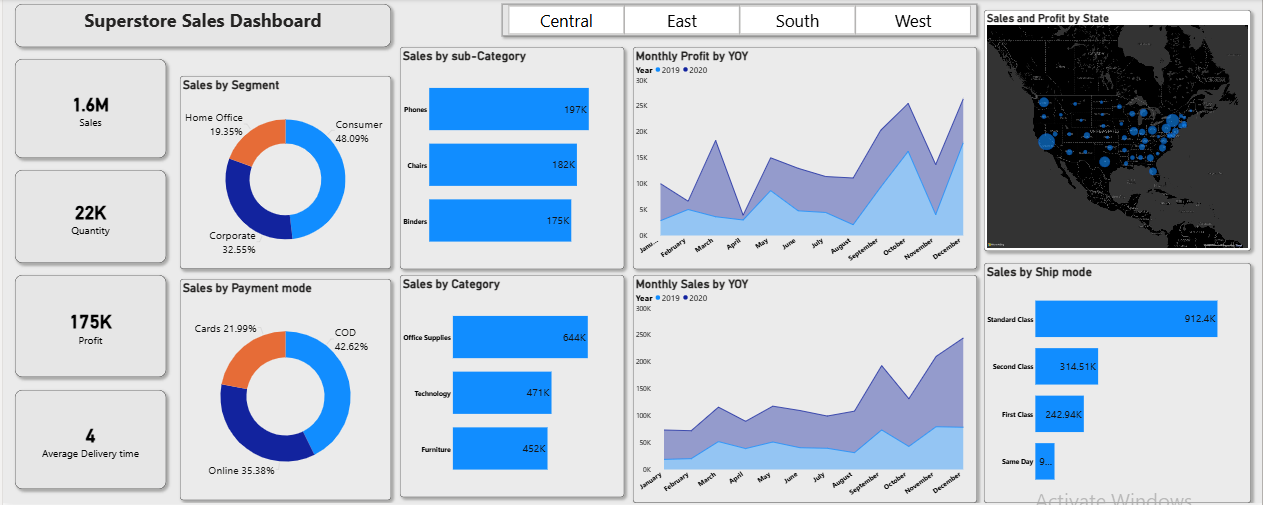

This screenshot's page, from the dashboard's own definition file:
{"tool":"powerbi","page":{"name":"Page 1","canvas":[5000,2000],"ordinal":0},"visuals":[{"type":"barChart","title":"Sales by Category","fields":{"Category":["SuperStore_Sales_Dataset.Category"],"Y":["Sum(SuperStore_Sales_Dataset.Sales)"]},"box":[1576.6,1096.1,889.6,881.7],"z":0},{"type":"barChart","title":"Sales by  sub-Category","fields":{"Y":["Sum(SuperStore_Sales_Dataset.Sales)"],"Category":["SuperStore_Sales_Dataset.Sub-Category"]},"box":[1576.6,190.6,889.6,881.7],"z":1000},{"type":"barChart","title":"Sales by Ship mode","fields":{"Y":["Sum(SuperStore_Sales_Dataset.Sales)"],"Category":["SuperStore_Sales_Dataset.Ship Mode"]},"box":[3895.9,1048.5,1060.4,953.1],"z":2000},{"type":"stackedAreaChart","title":"Monthly Sales by YOY","fields":{"Y":["Sum(SuperStore_Sales_Dataset.Sales)"],"Category":["SuperStore_Sales_Dataset.Order Date.Variation.Date Hierarchy.Month","SuperStore_Sales_Dataset.Order Date.Variation.Date Hierarchy.Day"],"Series":["SuperStore_Sales_Dataset.Order Date.Variation.Date Hierarchy.Year"]},"box":[2502,1096.1,1366.2,905.5],"z":3000},{"type":"stackedAreaChart","title":"Monthly Profit by YOY","fields":{"Series":["SuperStore_Sales_Dataset.Order Date.Variation.Date Hierarchy.Year"],"Category":["SuperStore_Sales_Dataset.Order Date.Variation.Date Hierarchy.Month","SuperStore_Sales_Dataset.Order Date.Variation.Date Hierarchy.Day"],"Y":["Sum(SuperStore_Sales_Dataset.Profit)"]},"box":[2502,190.6,1366.2,881.7],"z":4000},{"type":"map","title":"Sales and Profit by State","fields":{"Category":["SuperStore_Sales_Dataset.State"],"Size":["Sum(SuperStore_Sales_Dataset.Sales)"]},"box":[3895.9,43.7,1060.4,957.1],"z":5000},{"type":"donutChart","title":"Sales by Segment","fields":{"Category":["SuperStore_Sales_Dataset.Segment"],"Y":["Sum(SuperStore_Sales_Dataset.Sales)"]},"box":[702.9,305.8,838,766.5],"z":6000},{"type":"donutChart","title":"Sales by Payment mode","fields":{"Y":["Sum(SuperStore_Sales_Dataset.Sales)"],"Category":["SuperStore_Sales_Dataset.Payment Mode"]},"box":[702.9,1112,838,877.7],"z":7000},{"type":"slicer","fields":{"Values":["SuperStore_Sales_Dataset.Region"]},"box":[1981.7,19.9,1886.4,127.1],"z":9000},{"type":"textbox","box":[47.7,19.9,1493.2,170.8],"z":10000},{"type":"card","fields":{"Values":["Sum(SuperStore_Sales_Dataset.Sales)"]},"box":[47.7,238.3,599.7,393.2],"z":11000},{"type":"card","fields":{"Values":["Sum(SuperStore_Sales_Dataset.Quantity)"]},"box":[47.7,679.1,599.7,369.3],"z":12000},{"type":"card","fields":{"Values":["Sum(SuperStore_Sales_Dataset.Profit)"]},"box":[47.7,1096.1,599.7,405.1],"z":13000},{"type":"card","fields":{"Values":["Avg(SuperStore_Sales_Dataset.Delivery time)"]},"box":[47.7,1552.8,599.7,393.2],"z":14000}]}

Visuals, with their boxes on the page's 5000x2000 design canvas (x1, y1, x2, y2). These are canvas units, not pixel positions in the 1263x505 screenshot, which may show the page scaled, cropped or inside an application window:
"Sales by Category" barChart: (1577,1096,2466,1978)
"Sales by  sub-Category" barChart: (1577,191,2466,1072)
"Sales by Ship mode" barChart: (3896,1048,4956,2002)
"Monthly Sales by YOY" stackedAreaChart: (2502,1096,3868,2002)
"Monthly Profit by YOY" stackedAreaChart: (2502,191,3868,1072)
"Sales and Profit by State" map: (3896,44,4956,1001)
"Sales by Segment" donutChart: (703,306,1541,1072)
"Sales by Payment mode" donutChart: (703,1112,1541,1990)
slicer - SuperStore_Sales_Dataset.Region: (1982,20,3868,147)
textbox: (48,20,1541,191)
card - Sum(SuperStore_Sales_Dataset.Sales): (48,238,647,632)
card - Sum(SuperStore_Sales_Dataset.Quantity): (48,679,647,1048)
card - Sum(SuperStore_Sales_Dataset.Profit): (48,1096,647,1501)
card - Avg(SuperStore_Sales_Dataset.Delivery time): (48,1553,647,1946)
